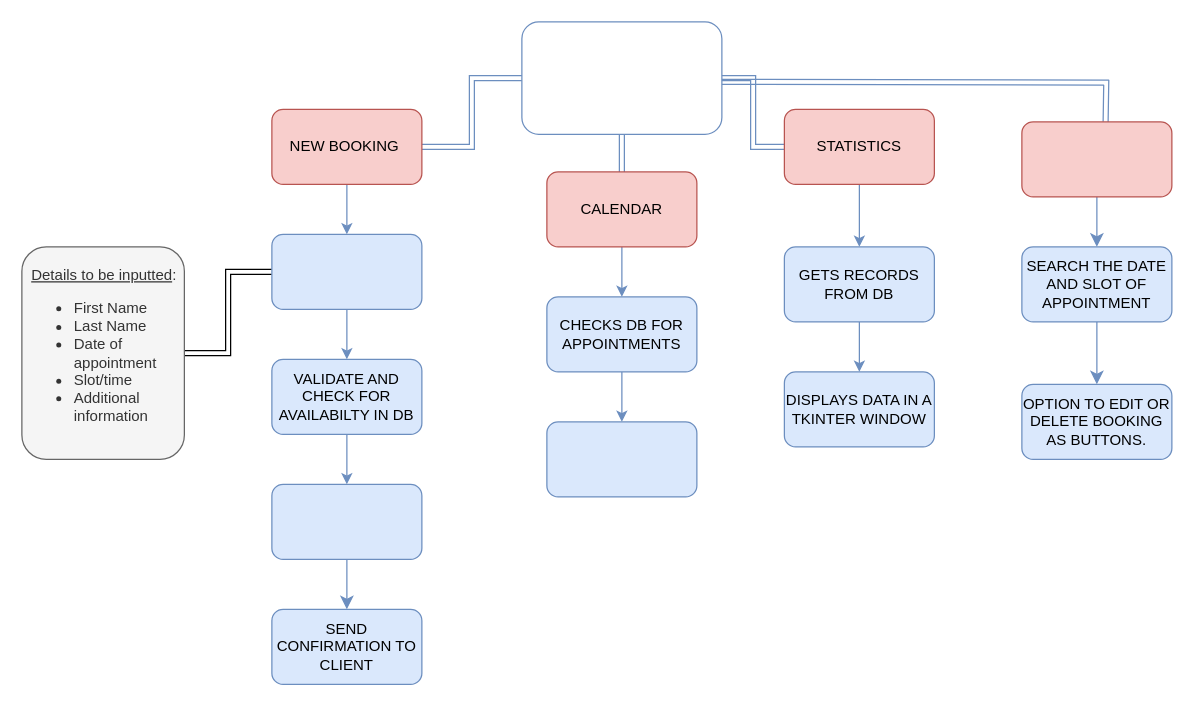
The diagram is 1194 pixels wide and 706 high, and some of its shapes have lost their labels. Each missing label, with the box of its shape:
DISPLAY CALENDAR IN A TKINTER WINDOW: (546, 421, 697, 497)
INPUT VALUES IN A TKINTER FORM: (271, 233, 422, 309)
MANAGE BOOKINGG: (1021, 121, 1172, 197)
STORE IN DB: (271, 483, 422, 559)
USER HOMEPAGE: (521, 21, 722, 134)
